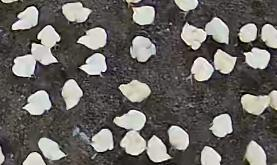chick: (9, 4, 40, 32), (21, 89, 53, 115), (111, 109, 147, 132), (75, 26, 108, 51), (180, 21, 207, 51), (204, 15, 231, 45), (60, 78, 84, 111), (146, 135, 174, 163), (117, 79, 151, 102), (29, 40, 59, 66), (129, 35, 156, 63), (119, 130, 148, 156), (37, 136, 67, 161), (61, 1, 92, 25), (187, 56, 214, 83), (78, 52, 107, 76), (212, 48, 237, 75), (240, 93, 270, 115), (208, 113, 234, 138), (11, 53, 37, 78), (244, 138, 268, 165), (166, 125, 190, 152), (89, 128, 116, 152), (242, 47, 271, 69), (129, 5, 157, 26), (36, 24, 60, 48), (236, 22, 258, 46), (200, 145, 222, 165), (20, 150, 47, 165)
